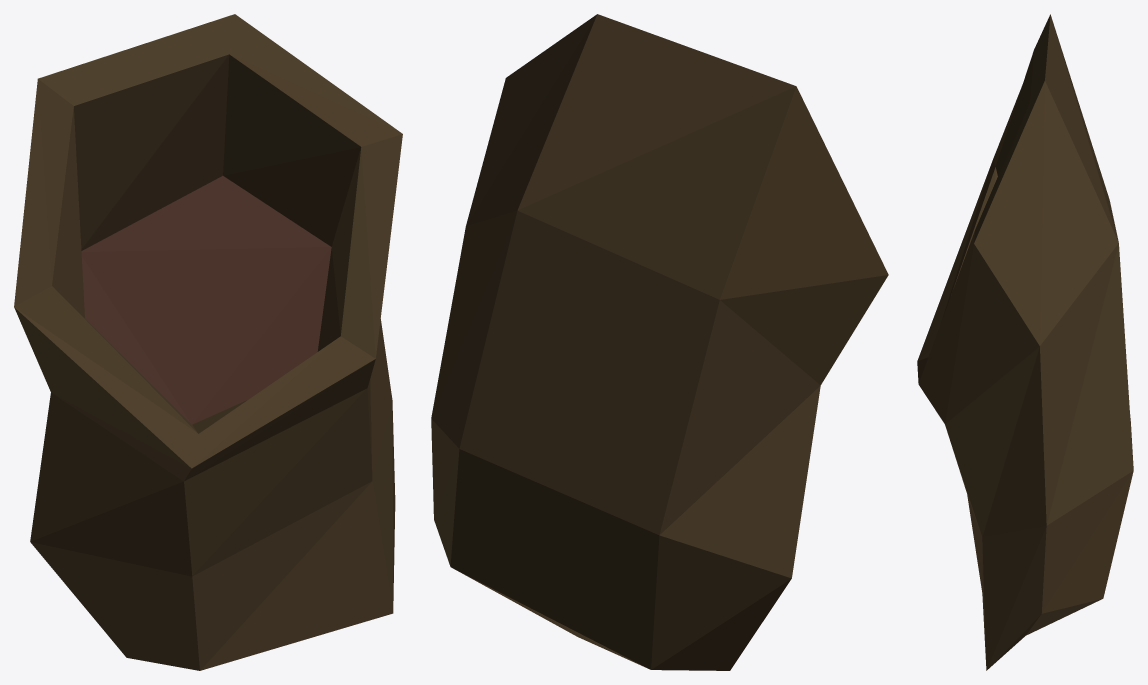
File: OC_SACK_V02.OBJ
3 renders of one model, left to right at view 1: azimuth 30°, elevation 25°; view 2: azimuth 150°, elevation 25°; view 3: azimuth 270°, elevation 25°, orthographic. The views are drawn at different scales.
Visible parts, largest first — view 1: OC_SACK_V02; view 2: OC_SACK_V02; view 3: OC_SACK_V02.
Part boxes in pixels (x1=…): OC_SACK_V02: x1=14, y1=14, x2=402, y2=670; OC_SACK_V02: x1=431, y1=14, x2=888, y2=670; OC_SACK_V02: x1=917, y1=14, x2=1133, y2=670.
Size of the model in its own units: 0.6574 by 0.9436 by 0.3406.
